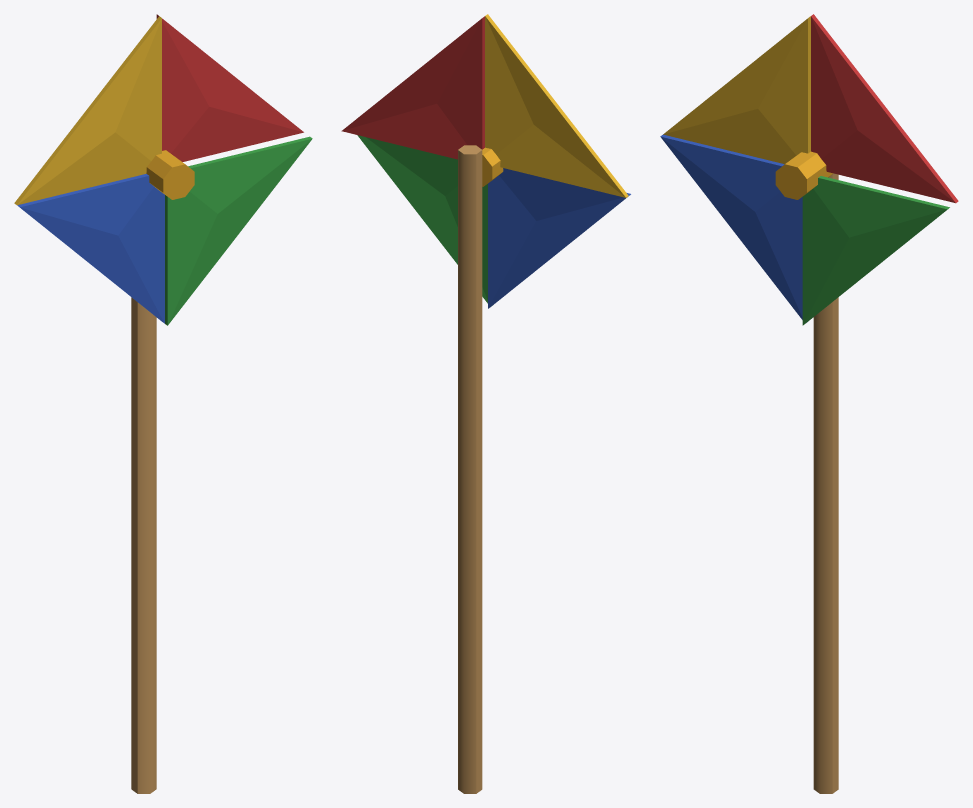
Rendered from pixor-library-pinwheel.glb.
The picture shows the model from 3 angles, left to right: view 1: azimuth 30°, elevation 25°; view 2: azimuth 150°, elevation 25°; view 3: azimuth 330°, elevation 25°; orthographic projection. The views are drawn at different scales.
Visible parts, largest first — view 1: Pinwheel stick, Pinwheel blade B, Pinwheel blade C, Pinwheel blade D, Pinwheel blade A, Pinwheel pin; view 2: Pinwheel stick, Pinwheel blade B, Pinwheel blade A, Pinwheel blade C, Pinwheel blade D, Pinwheel pin; view 3: Pinwheel stick, Pinwheel blade A, Pinwheel blade D, Pinwheel blade B, Pinwheel blade C, Pinwheel pin.
Part boxes in pixels (x1,y1,x2,y2): Pinwheel stick: (131, 297, 156, 793); Pinwheel blade B: (14, 16, 161, 205); Pinwheel blade C: (17, 174, 164, 323); Pinwheel blade D: (165, 136, 312, 325); Pinwheel blade A: (156, 14, 303, 161); Pinwheel pin: (146, 150, 194, 199); Pinwheel stick: (458, 145, 482, 793); Pinwheel blade B: (485, 14, 628, 197); Pinwheel blade A: (341, 16, 484, 159); Pinwheel blade C: (488, 168, 630, 308); Pinwheel blade D: (357, 135, 487, 303); Pinwheel pin: (482, 147, 503, 186); Pinwheel stick: (813, 173, 838, 793); Pinwheel blade A: (811, 14, 958, 203); Pinwheel blade D: (802, 176, 949, 325); Pinwheel blade B: (663, 16, 810, 164); Pinwheel blade C: (660, 134, 802, 319); Pinwheel pin: (775, 151, 833, 199).
Size of the model in its own units: 0.24 by 0.62 by 0.059.
